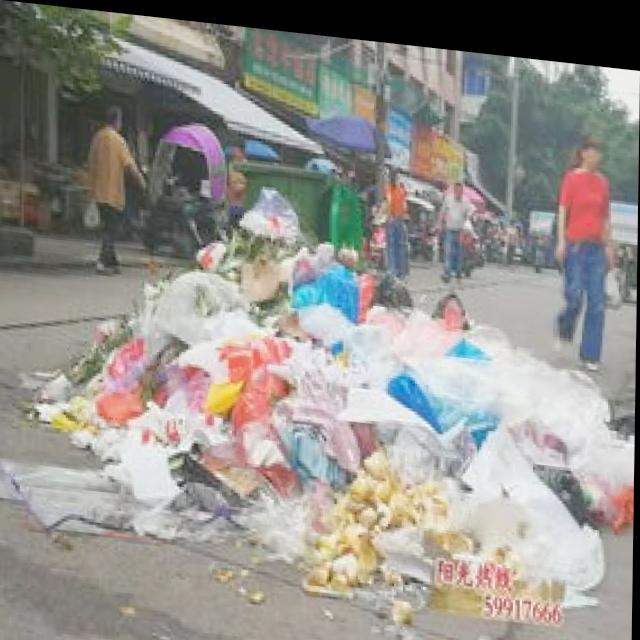garbage: (0, 154, 636, 632)
